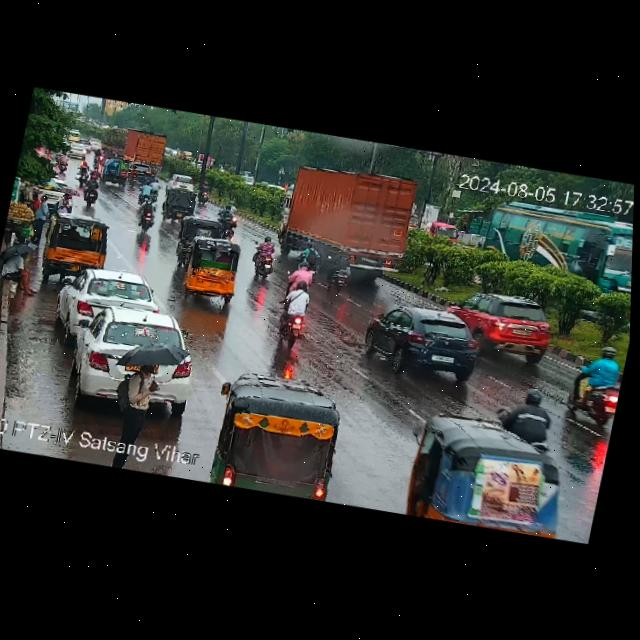bus: (471, 192, 634, 301)
car: (393, 404, 574, 540), (199, 359, 352, 503), (54, 300, 211, 426), (357, 298, 486, 384), (442, 286, 555, 363), (55, 262, 161, 336), (171, 234, 248, 307), (39, 209, 117, 275), (167, 212, 220, 266), (159, 184, 198, 224), (165, 171, 195, 190)
motorcycle: (562, 342, 628, 428), (277, 276, 314, 347), (513, 383, 548, 441), (249, 234, 284, 282), (324, 246, 356, 296), (212, 199, 246, 234), (74, 175, 109, 209), (134, 196, 160, 234), (135, 176, 164, 208), (288, 260, 315, 292), (301, 238, 323, 272), (194, 178, 213, 208), (73, 160, 90, 188), (127, 165, 138, 187), (90, 164, 104, 181), (90, 148, 102, 166)
person: (110, 362, 165, 442), (0, 237, 51, 302), (29, 195, 51, 242), (31, 189, 40, 209)
truck: (258, 152, 426, 295), (118, 125, 171, 171)
